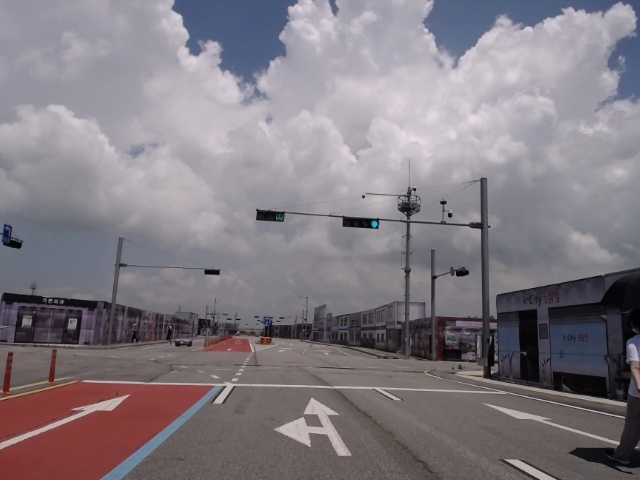straight_green_4: (342, 216, 380, 228)
